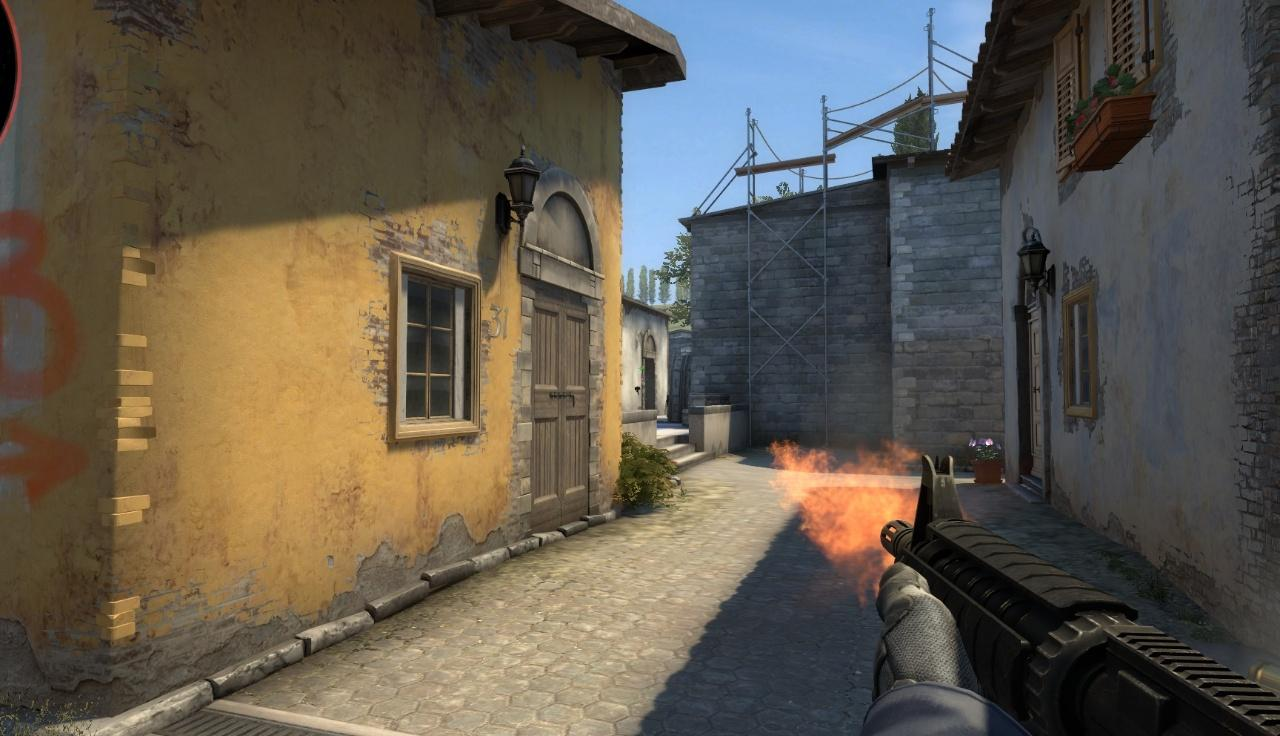rifle: (864, 462, 1280, 734)
